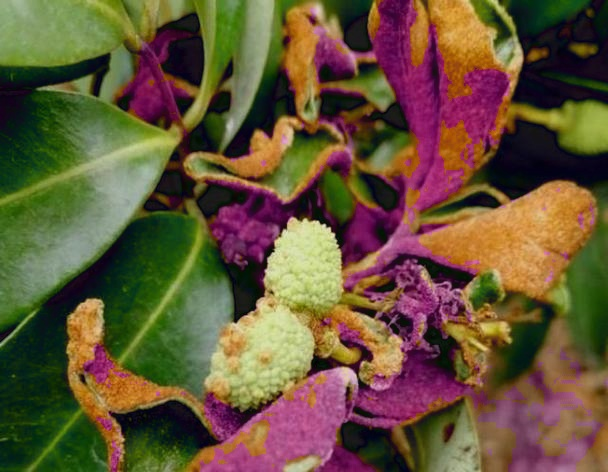Gall_Mite: (29, 296, 351, 472), (344, 221, 586, 423), (280, 10, 504, 210)
